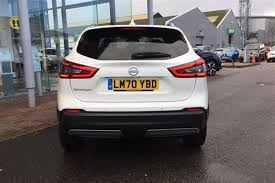licence-plate: (107, 76, 156, 89), (108, 76, 155, 89)
